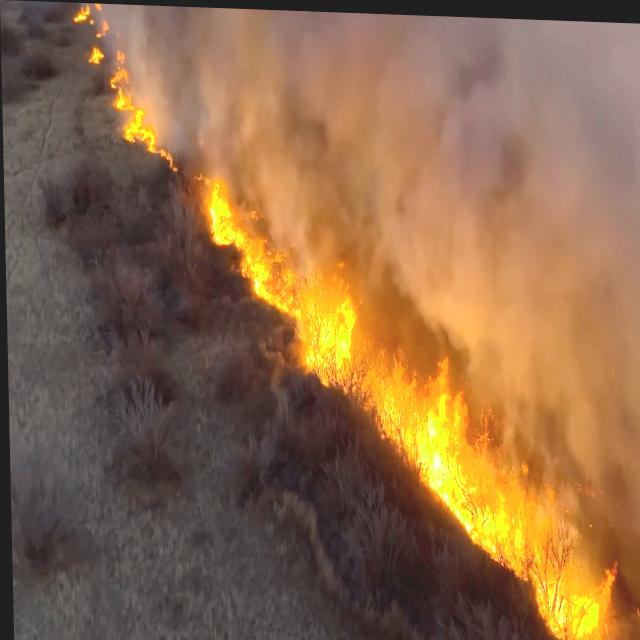fire: (187, 165, 349, 368), (395, 340, 474, 508), (477, 492, 566, 585), (558, 562, 619, 640)
smoke: (372, 11, 640, 354)
